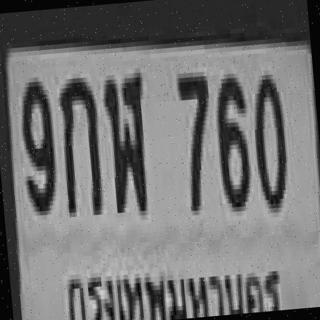A01: (56, 72, 104, 213)
A42: (102, 68, 151, 208)
N00: (248, 70, 288, 210)
N06: (211, 68, 252, 208)
N07: (175, 67, 217, 211)
N09: (16, 72, 57, 212)
P04: (62, 250, 286, 320)
